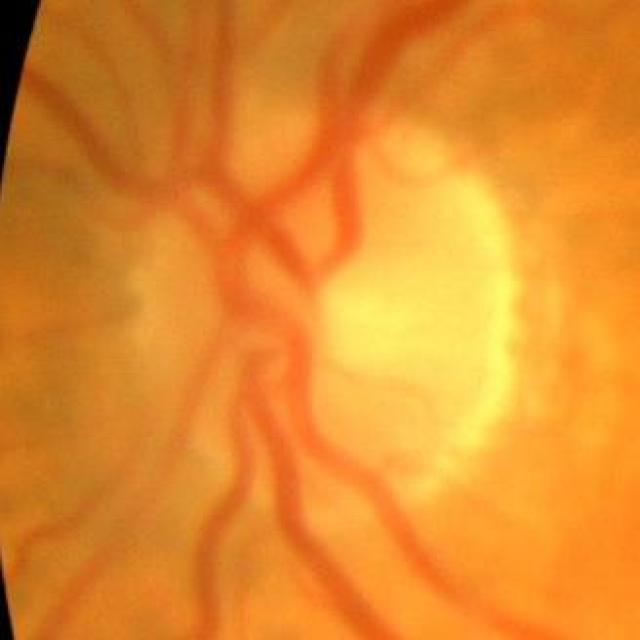OC: (318, 272, 421, 378)
OD: (134, 114, 534, 522)
